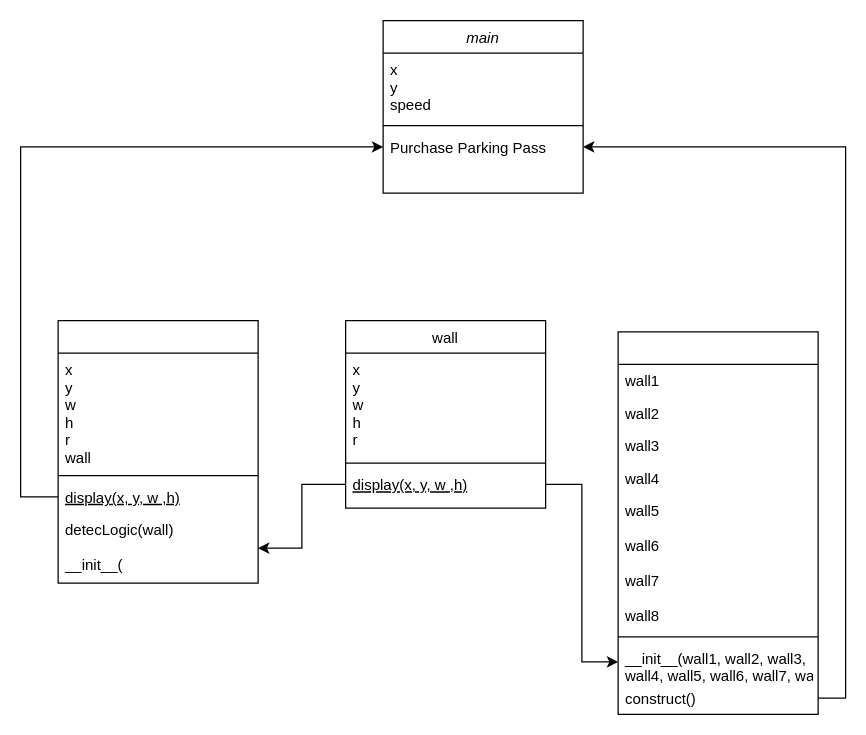
Image size: 866x735. Some labels were removed from this diagram. Each missing label, with the box of its shape:
charecter: (57, 319, 258, 583)
level: (617, 331, 818, 714)
